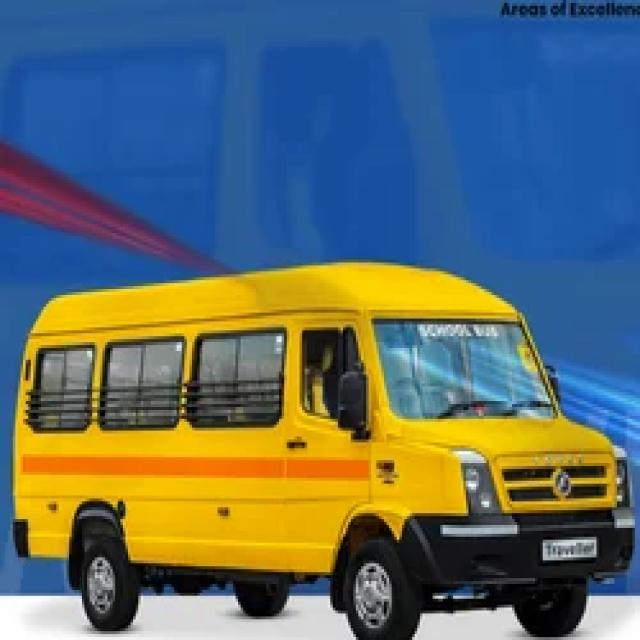bus: (14, 262, 630, 636)
